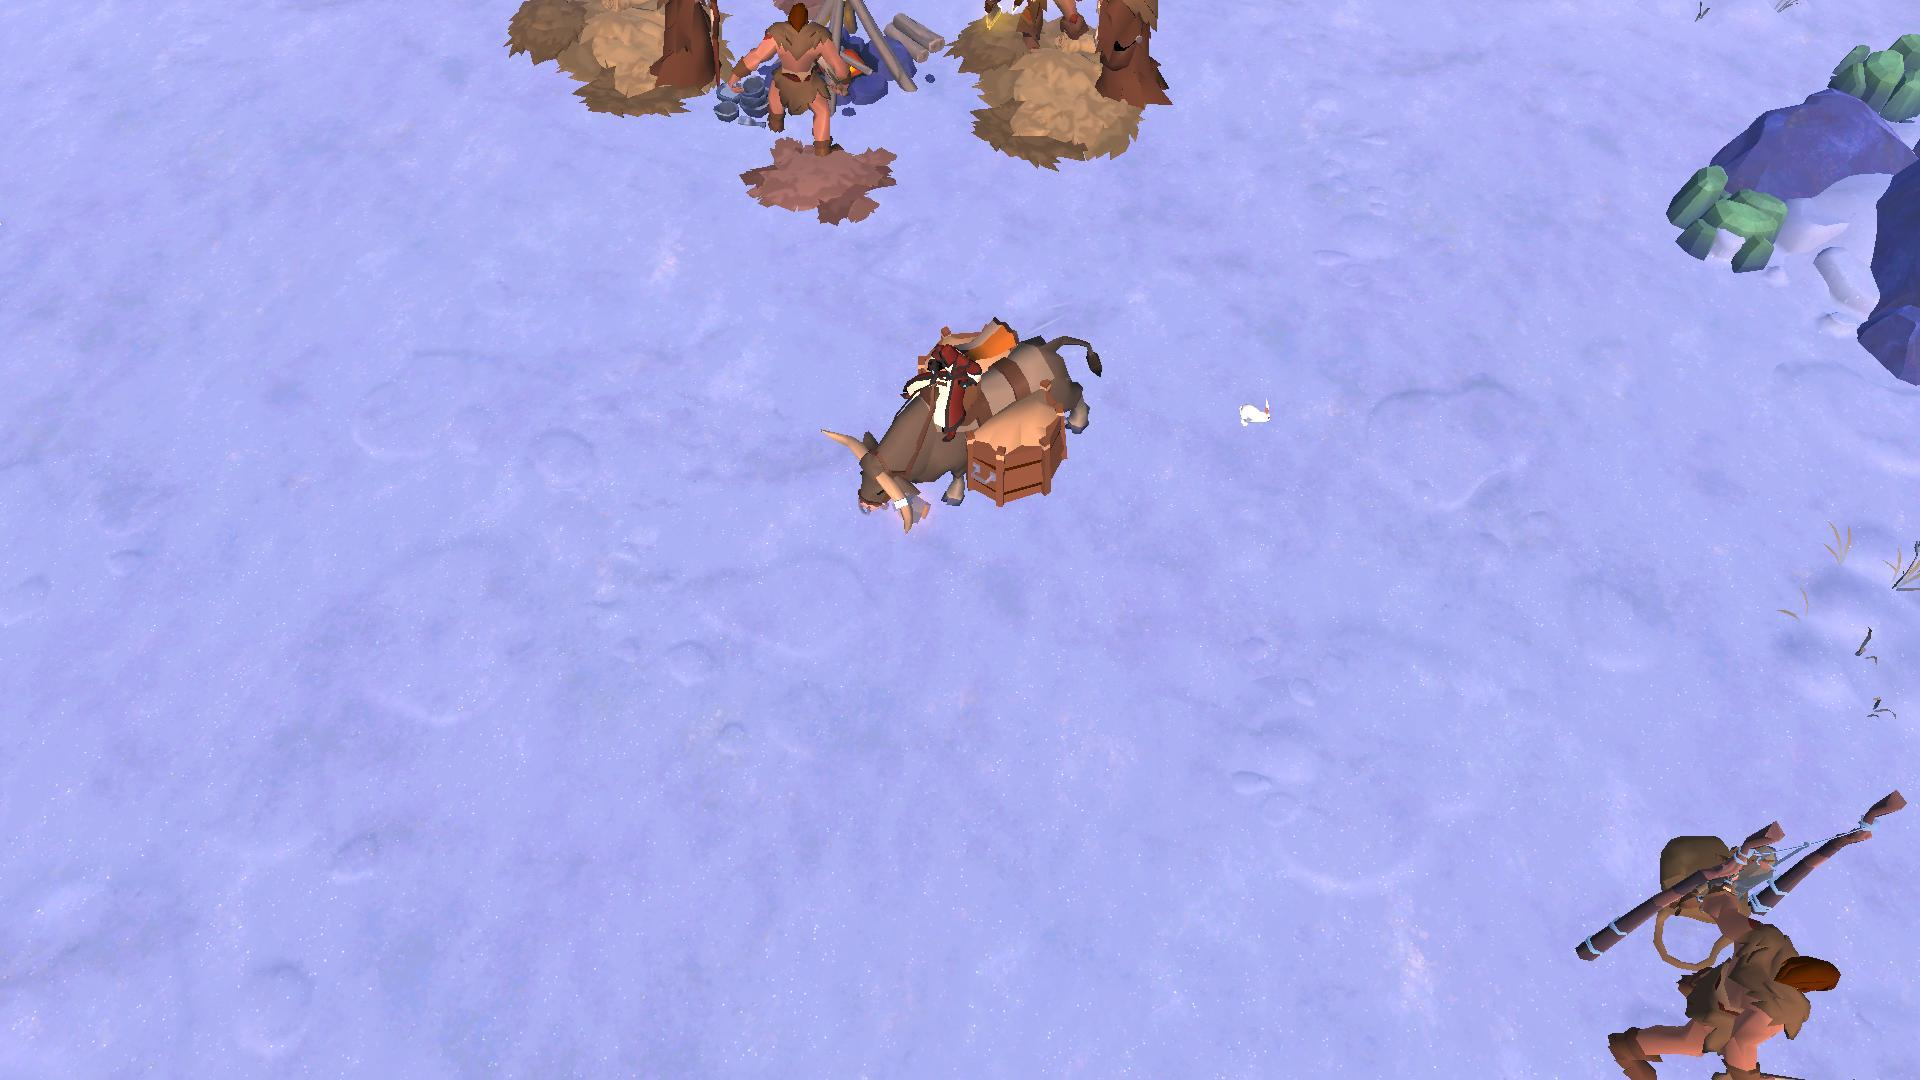enemy_factionKeeper: (1607, 901, 1847, 1080), (748, 13, 847, 161)
rock_t3: (1660, 158, 1788, 266), (1815, 28, 1920, 117)
